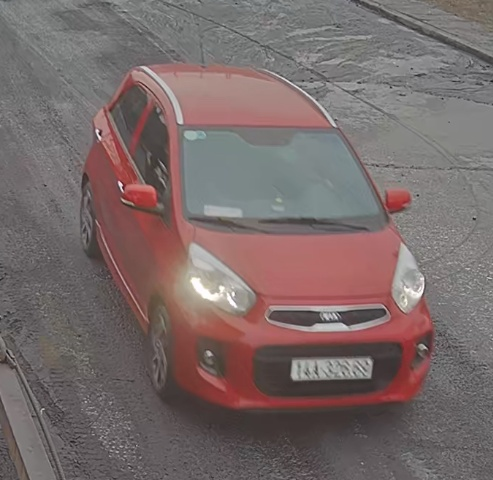vehicle plate: (287, 352, 380, 386)
